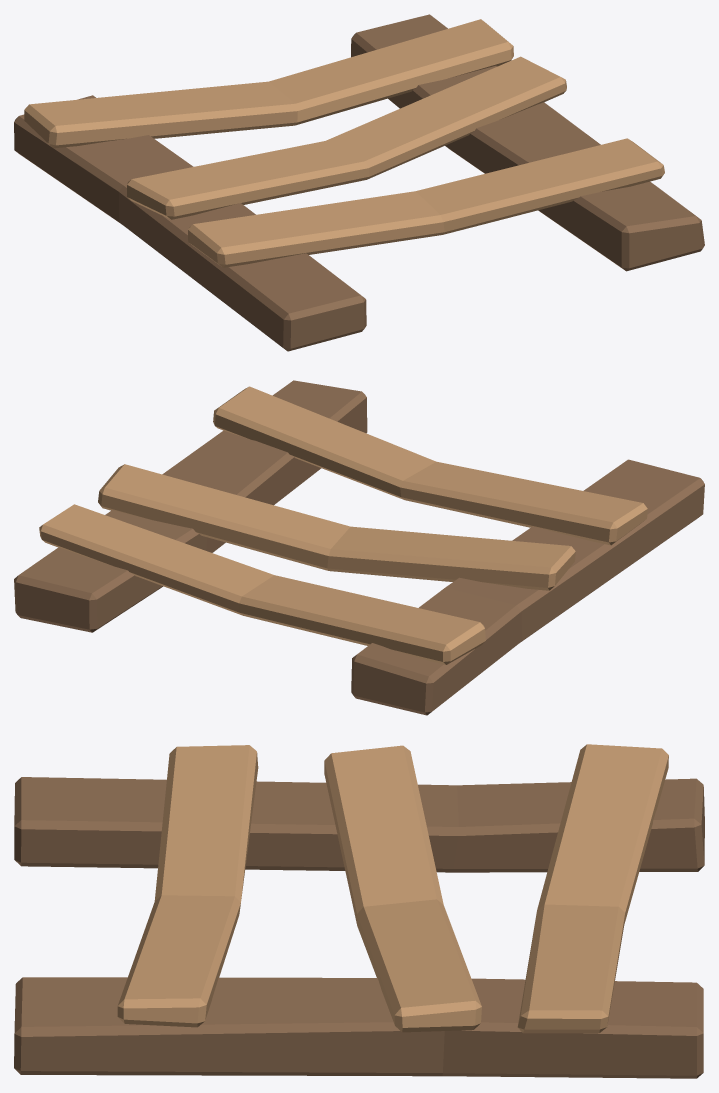
File: wood fence1.fbx
The picture shows the model from 3 angles, top to bottom: view 1: azimuth 30°, elevation 25°; view 2: azimuth 150°, elevation 25°; view 3: azimuth 270°, elevation 25°; orthographic projection. The views are drawn at different scales.
Parts seen in each view (by area): view 1: wooden-fence.001; view 2: wooden-fence.001; view 3: wooden-fence.001.
Boxes of the visible parts, bbox=[...] form: wooden-fence.001: bbox=[14, 14, 704, 351]; wooden-fence.001: bbox=[14, 380, 704, 715]; wooden-fence.001: bbox=[14, 744, 704, 1078].
Bounding box in the file's own units: 1.85 × 0.2638 × 2.
